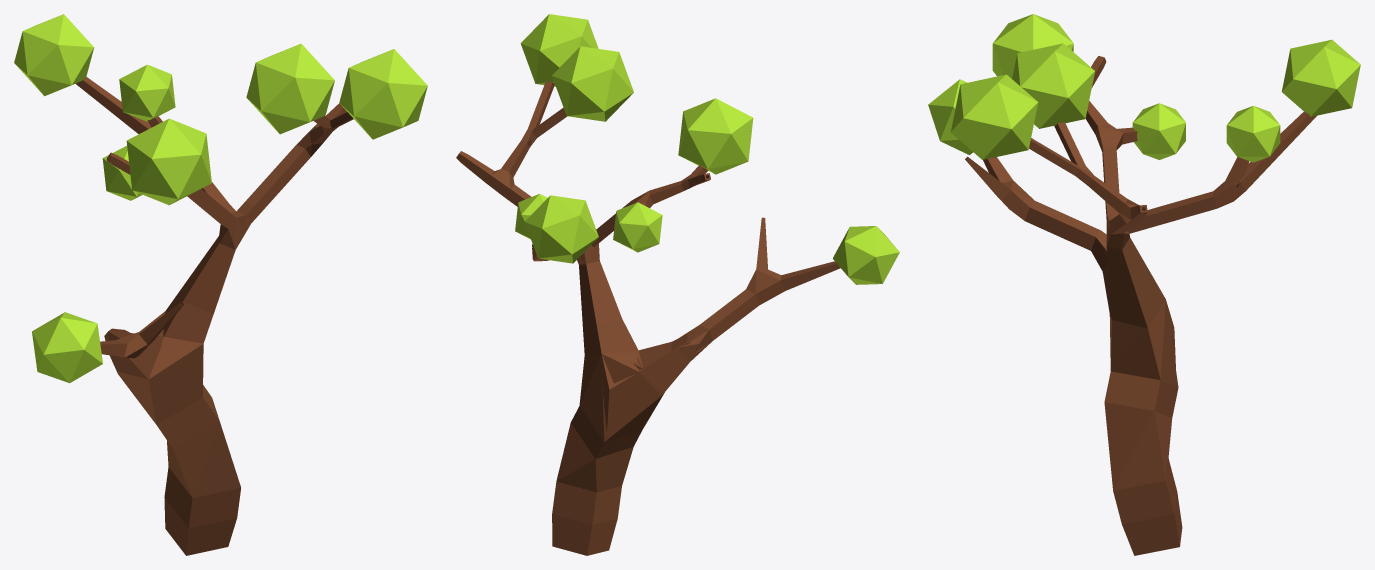
The model's file is Tree1.2.fbx.
3 views of the same model, side by side, from view 1: azimuth 30°, elevation 25°; view 2: azimuth 150°, elevation 25°; view 3: azimuth 270°, elevation 25° (orthographic). The views are drawn at different scales.
Parts seen in each view (by area): view 1: Trunck Tree1.2; view 2: Trunck Tree1.2; view 3: Trunck Tree1.2.
Boxes of the visible parts, x1,y1,x2,y2 form: Trunck Tree1.2: (14,14,427,555); Trunck Tree1.2: (456,14,899,555); Trunck Tree1.2: (928,14,1360,555).
Size of the model in its own units: 978 by 1207 by 909.
